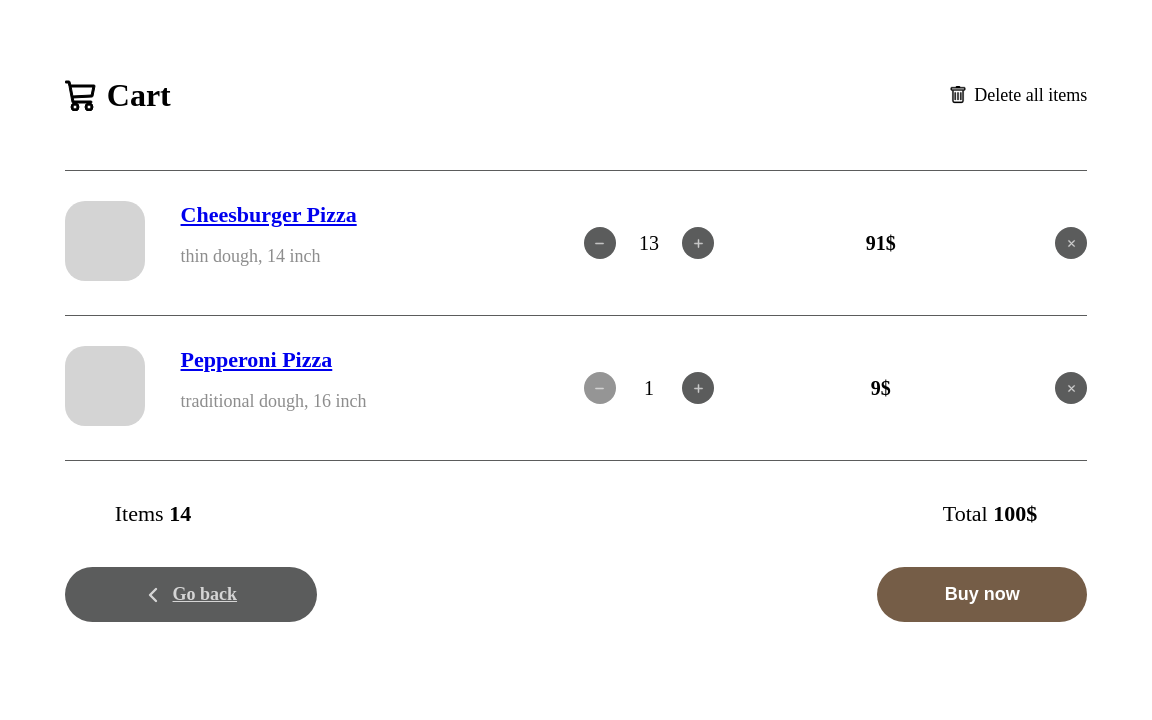
Test: OrderModal tests › OrderModal logic › should open the ordering modal
Click the button "Buy now" at (982, 595), box left=877, top=567, right=1087, bottom=622
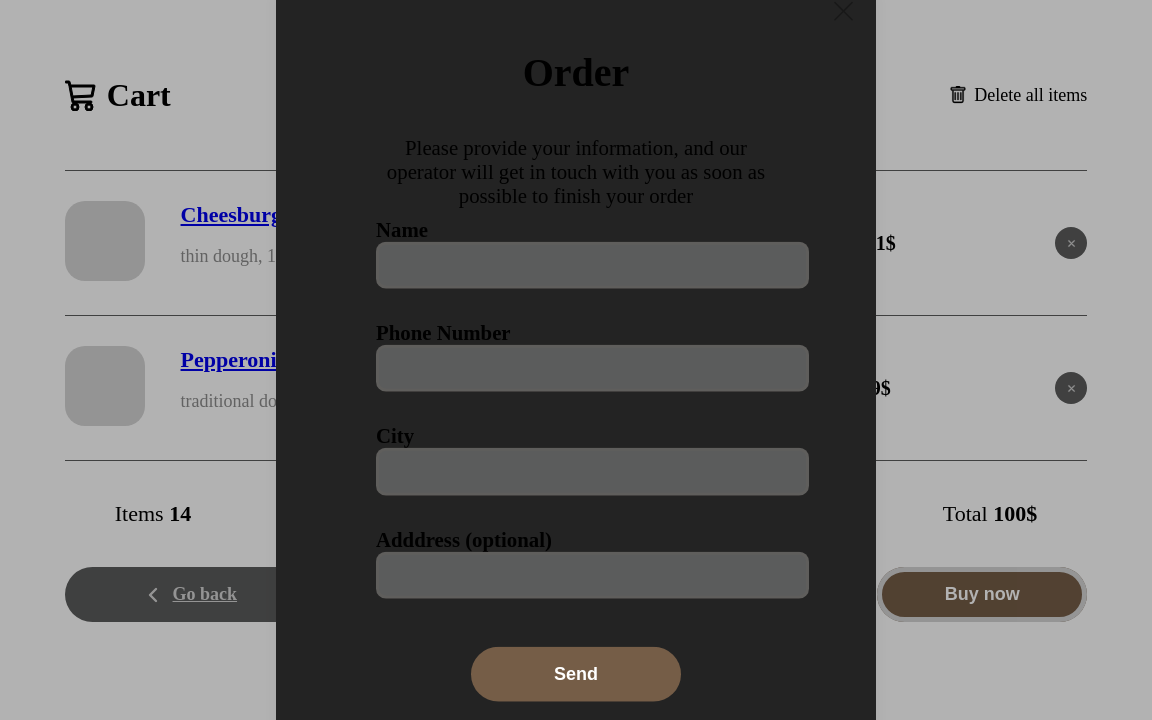
Check: the heading "Order" is shown, box left=523, top=50, right=629, bottom=95
